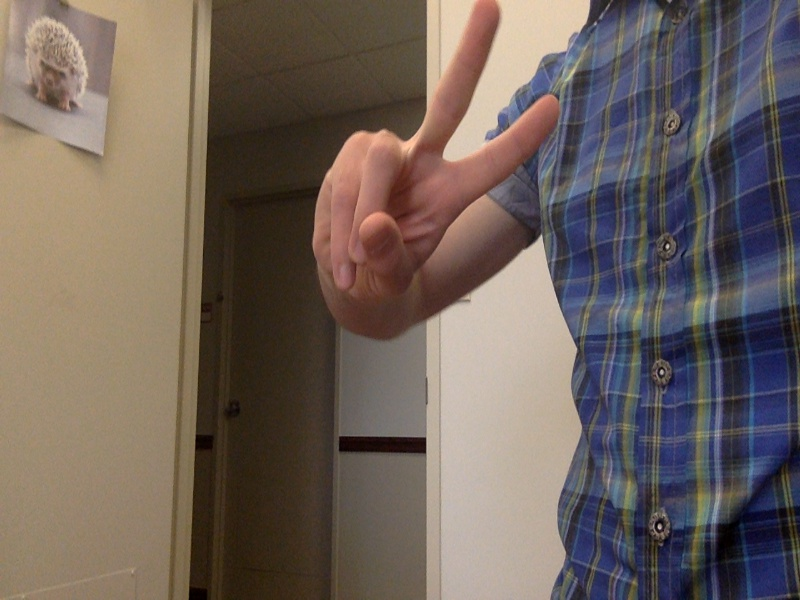2-hand: (308, 3, 560, 303)
